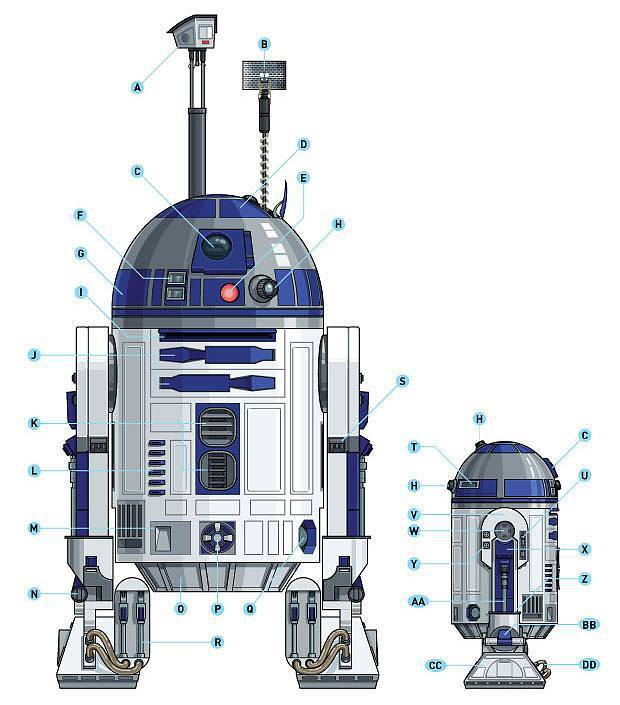r2d2: (69, 195, 381, 688), (450, 441, 561, 686)
